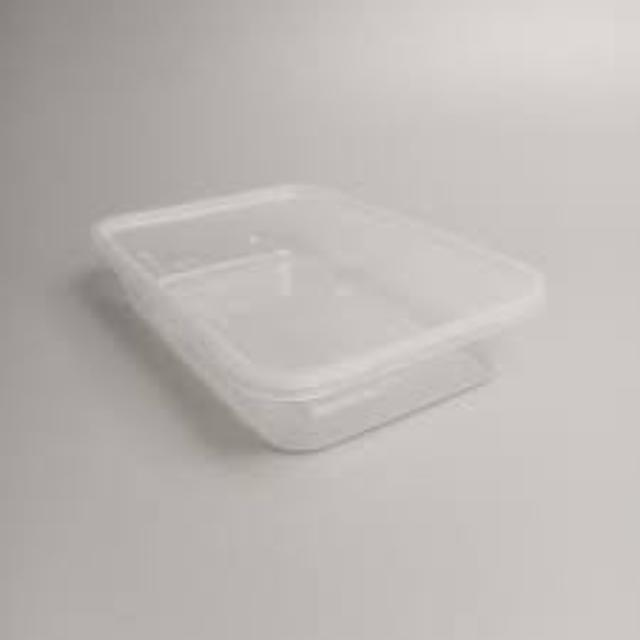Recipiente plastico: (92, 183, 547, 455)
